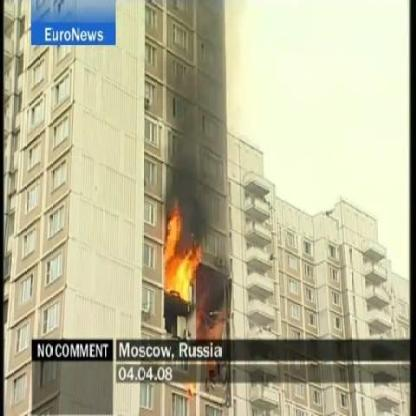fire: (163, 201, 204, 298), (204, 316, 230, 340)
